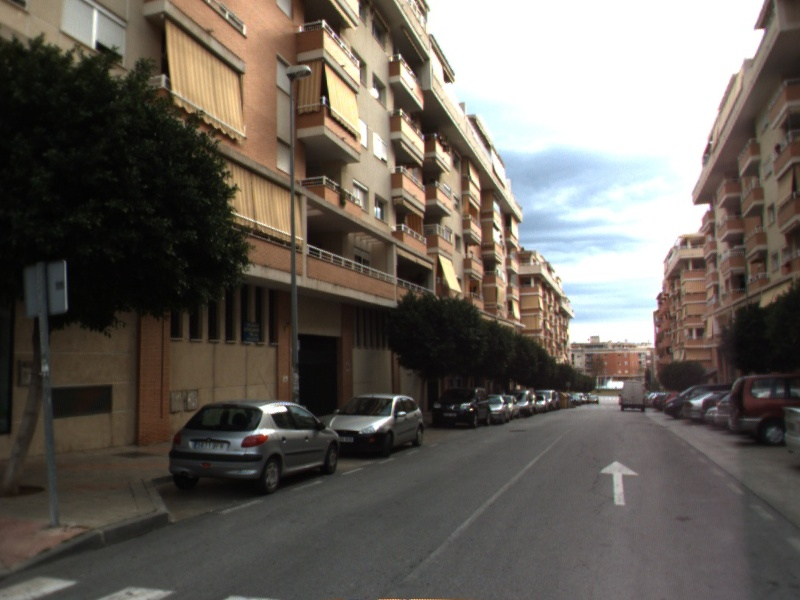STRAIGHT: (598, 459, 641, 507)
